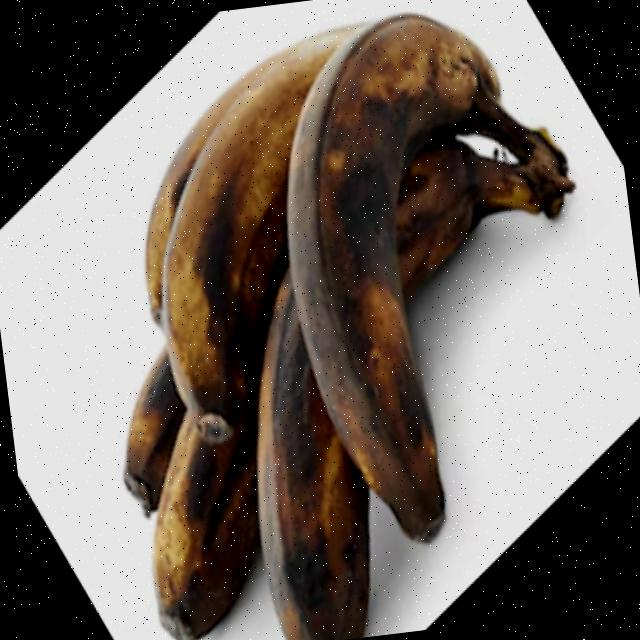Rotten: (258, 0, 571, 555)
